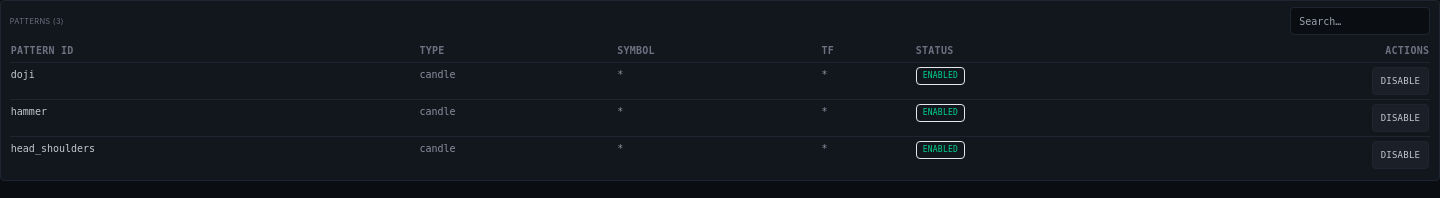
Scenario: Admin/PatternsAdmin page › search input filters rows by pattern_id
expect the text "doji" is shown: met, box [10,63,418,100]
Type "ham" into the field named "search patterns" at (1360, 21), box [1290,7,1430,35]
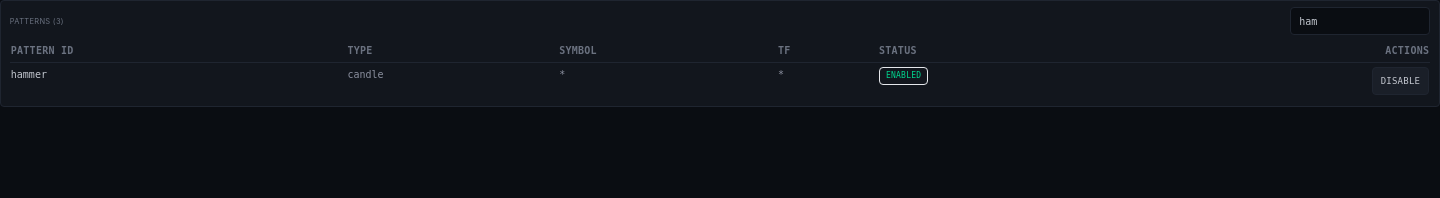
expect the text "hammer" is shown: met, box [10,63,346,99]
expect the text "doji" is gone: met
expect the text "head_shoulders" is gone: met
